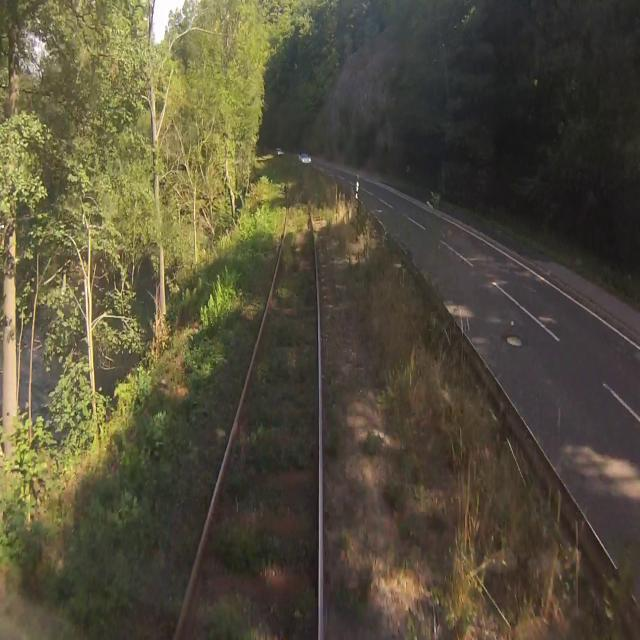Plant: (193, 190, 315, 639), (165, 312, 260, 638), (331, 535, 375, 622), (324, 398, 341, 461), (268, 182, 284, 247)
